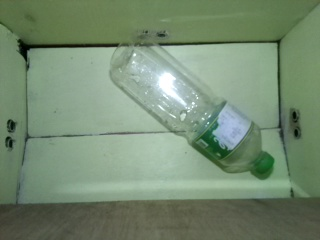bottle: (108, 31, 279, 181)
